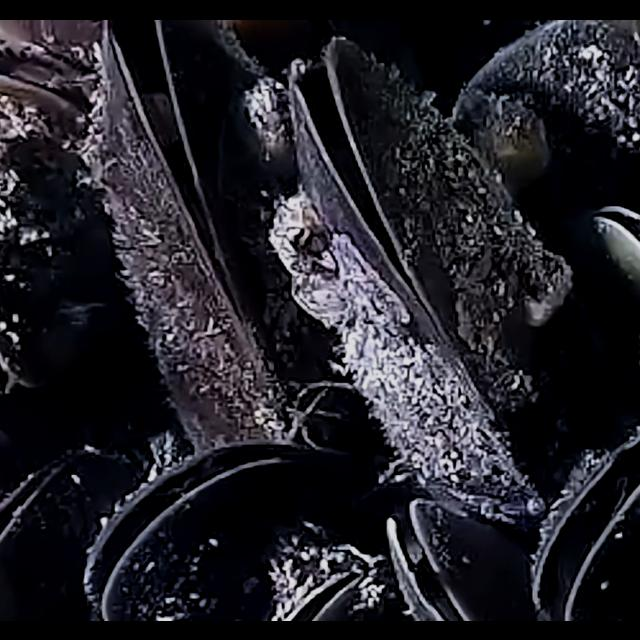Oyster-Closed: (447, 19, 640, 290)
Oyster-Open: (266, 35, 592, 525), (84, 19, 348, 455), (80, 438, 356, 620), (0, 137, 100, 397), (0, 444, 146, 620), (528, 428, 640, 620), (380, 496, 534, 620), (0, 36, 98, 158), (277, 562, 365, 620), (584, 200, 640, 286)
